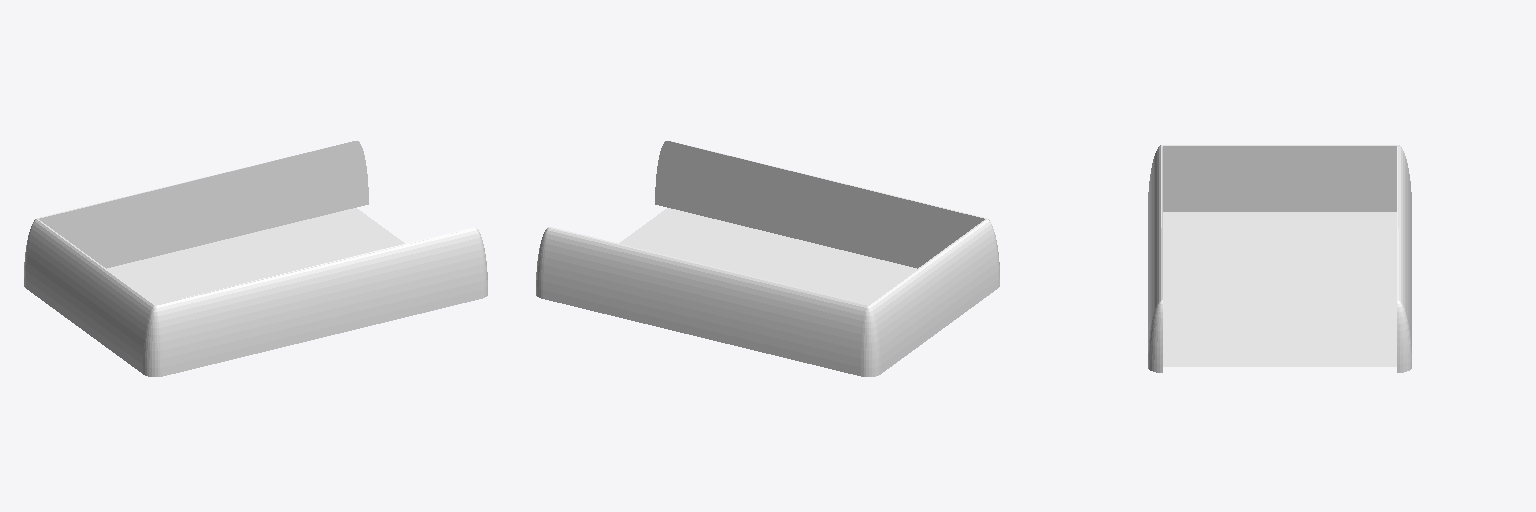
Rendered from field.obj.
3 views of the same model, side by side, from view 1: azimuth 30°, elevation 25°; view 2: azimuth 150°, elevation 25°; view 3: azimuth 270°, elevation 25° (orthographic).
Parts seen in each view (by area): view 1: Cube.001_Cube.002; view 2: Cube.001_Cube.002; view 3: Cube.001_Cube.002.
Part boxes in pixels (left/top/right/bottom): Cube.001_Cube.002: left=24, top=141, right=487, bottom=376; Cube.001_Cube.002: left=536, top=141, right=999, bottom=376; Cube.001_Cube.002: left=1148, top=145, right=1411, bottom=372.
Bounding box in the file's own units: 270 × 50.17 × 180.